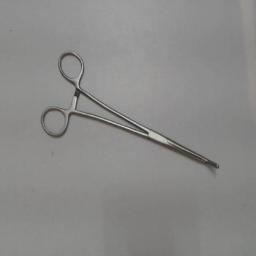Lahey Forceps: (38, 46, 224, 174)
